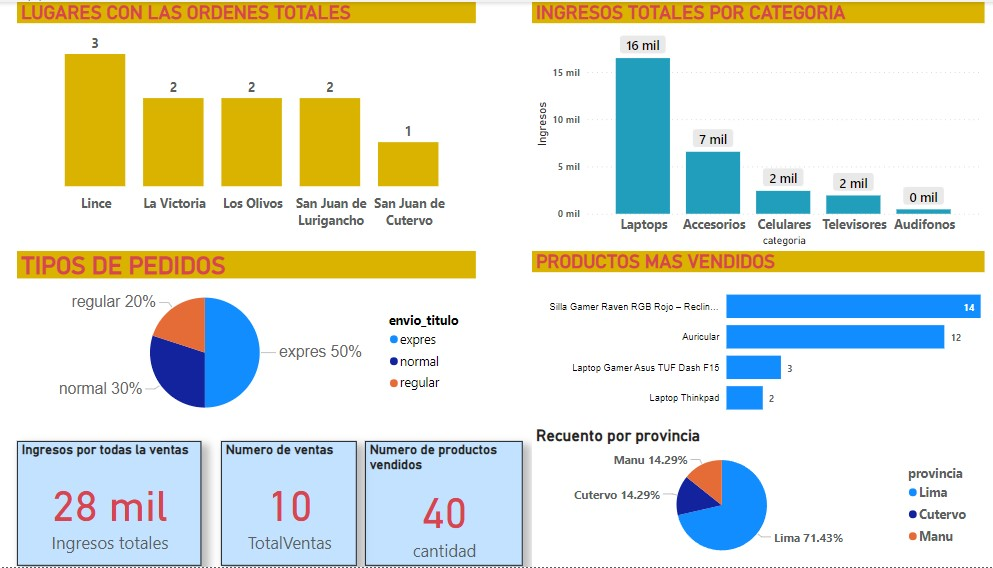

The dashboard page shown, as its layout file describes it:
{"tool":"powerbi","page":{"name":"Página 1","canvas":[1280,720],"ordinal":0},"visuals":[{"type":"clusteredColumnChart","title":"INGRESOS TOTALES POR CATEGORIA","fields":{"Y":["dventas.Ingresos totales"],"Category":["productos.categoria"]},"box":[687.5,0,577.2,316.9],"z":0},{"type":"clusteredColumnChart","title":"LUGARES CON LAS ORDENES TOTALES","fields":{"Y":["ventas.TotalVentas"],"Category":["direccions.distrito"]},"box":[30.6,0,584.9,295.5],"z":1000},{"type":"pieChart","title":"TIPOS DE PEDIDOS","fields":{"Category":["ventas.envio_titulo"],"Y":["CountNonNull(ventas.envio_titulo)"]},"box":[30.6,316.9,584.9,223.5],"z":2000},{"type":"barChart","title":"PRODUCTOS MAS VENDIDOS","fields":{"Category":["productos.titulo"],"Y":["Sum(dventas.cantidad)"]},"box":[687.5,316.9,577.2,223.5],"z":3000},{"type":"card","title":"Ingresos por todas la ventas","fields":{"Values":["dventas.Ingresos totales"]},"box":[30.6,559.7,234.6,159.4],"z":4000},{"type":"card","title":"Numero de ventas","fields":{"Values":["ventas.TotalVentas"]},"box":[290.7,559.7,173.4,159.4],"z":5000},{"type":"card","title":"Numero de productos vendidos","fields":{"Values":["Sum(dventas.cantidad)"]},"box":[474.3,559.7,201.4,159.4],"z":6000},{"type":"pieChart","title":"Recuento por provincia","fields":{"Category":["direccions.provincia"],"Y":["CountNonNull(direccions.provincia)"]},"box":[687.5,540.5,577.2,179.1],"z":7000}]}

Visuals, with their boxes in screenshot pixels (x1, y1, x2, y2), scaled from the page's 1280x720 canvas onto the 993x568 screenshot:
"INGRESOS TOTALES POR CATEGORIA" clusteredColumnChart: region(533, 0, 981, 250)
"LUGARES CON LAS ORDENES TOTALES" clusteredColumnChart: region(24, 0, 477, 233)
"TIPOS DE PEDIDOS" pieChart: region(24, 250, 477, 426)
"PRODUCTOS MAS VENDIDOS" barChart: region(533, 250, 981, 426)
"Ingresos por todas la ventas" card: region(24, 442, 206, 567)
"Numero de ventas" card: region(226, 442, 360, 567)
"Numero de productos vendidos" card: region(368, 442, 524, 567)
"Recuento por provincia" pieChart: region(533, 426, 981, 567)
